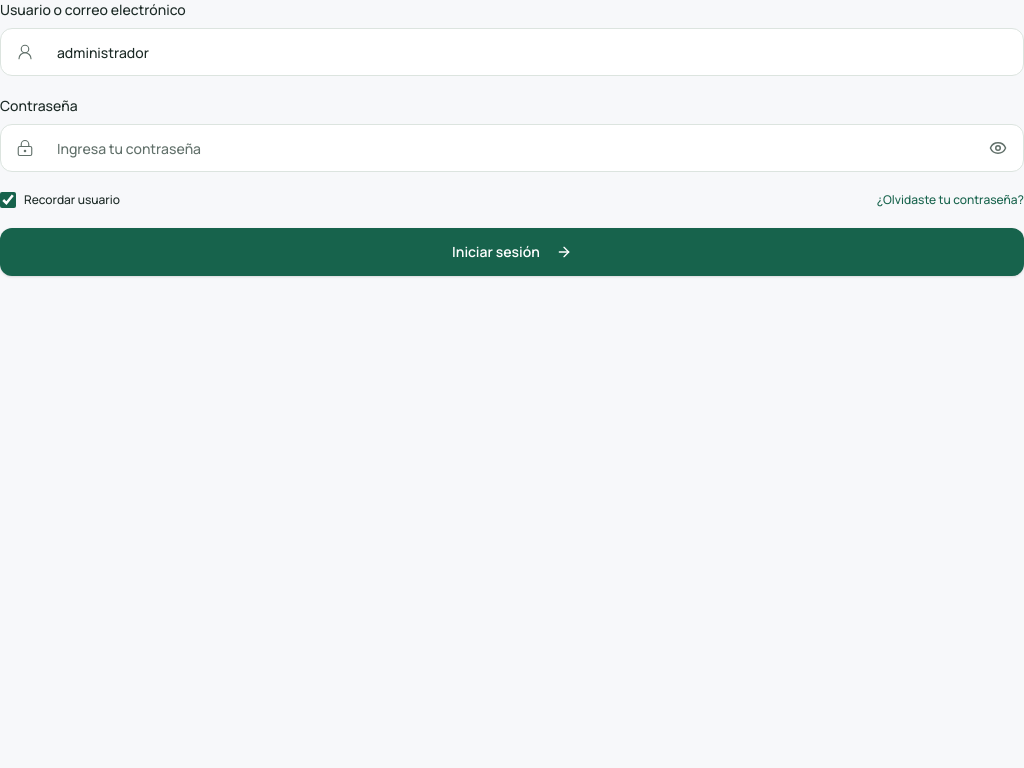
Formulario de acceso › orienta al usuario sin simular una recuperación por correo
Click the button "¿Olvidaste tu contraseña?" at (950, 200), box [877,192,1023,208]
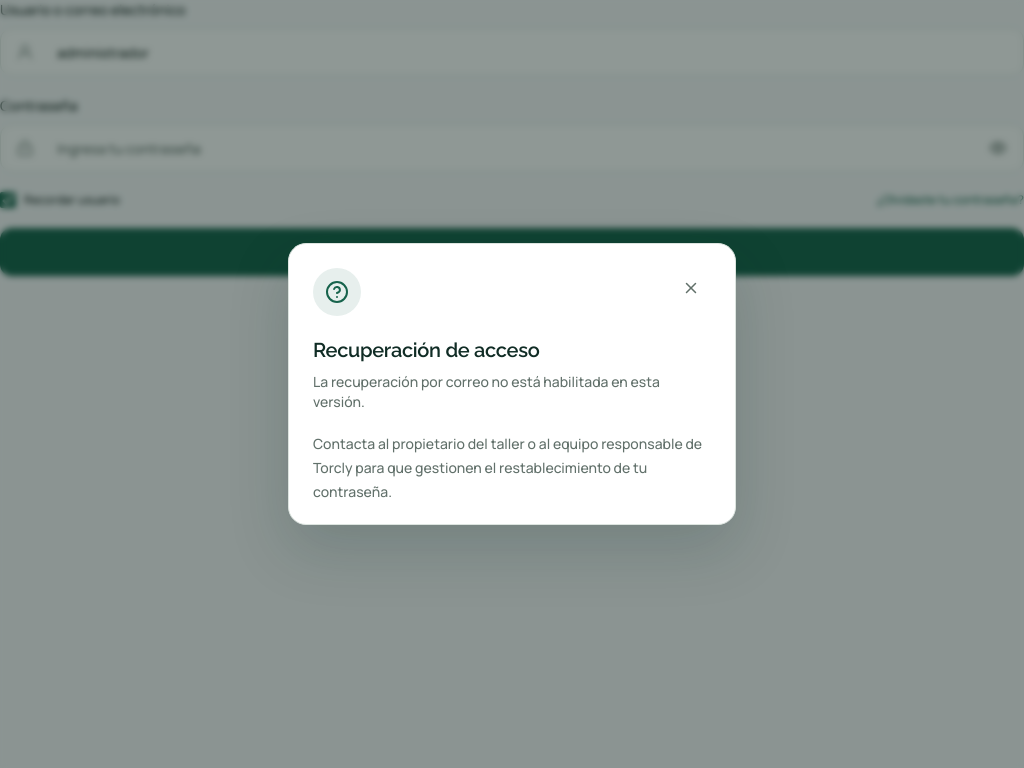
Expected: the heading "Recuperación de acceso" is shown, [313,338,540,362]
Expected: the text "recuperación por correo no está habilitada" is shown, [313,372,660,411]
